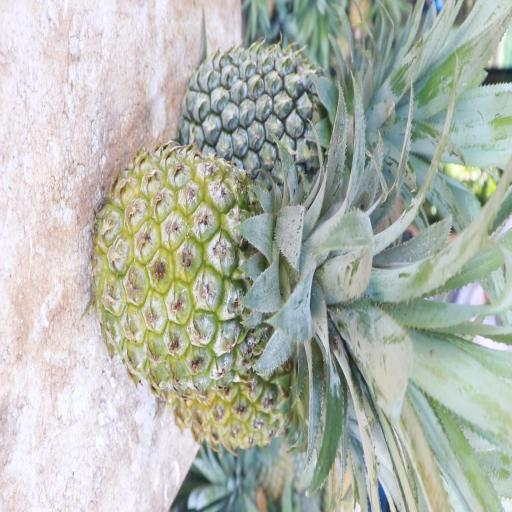------------------------------: (91, 140, 377, 400)
